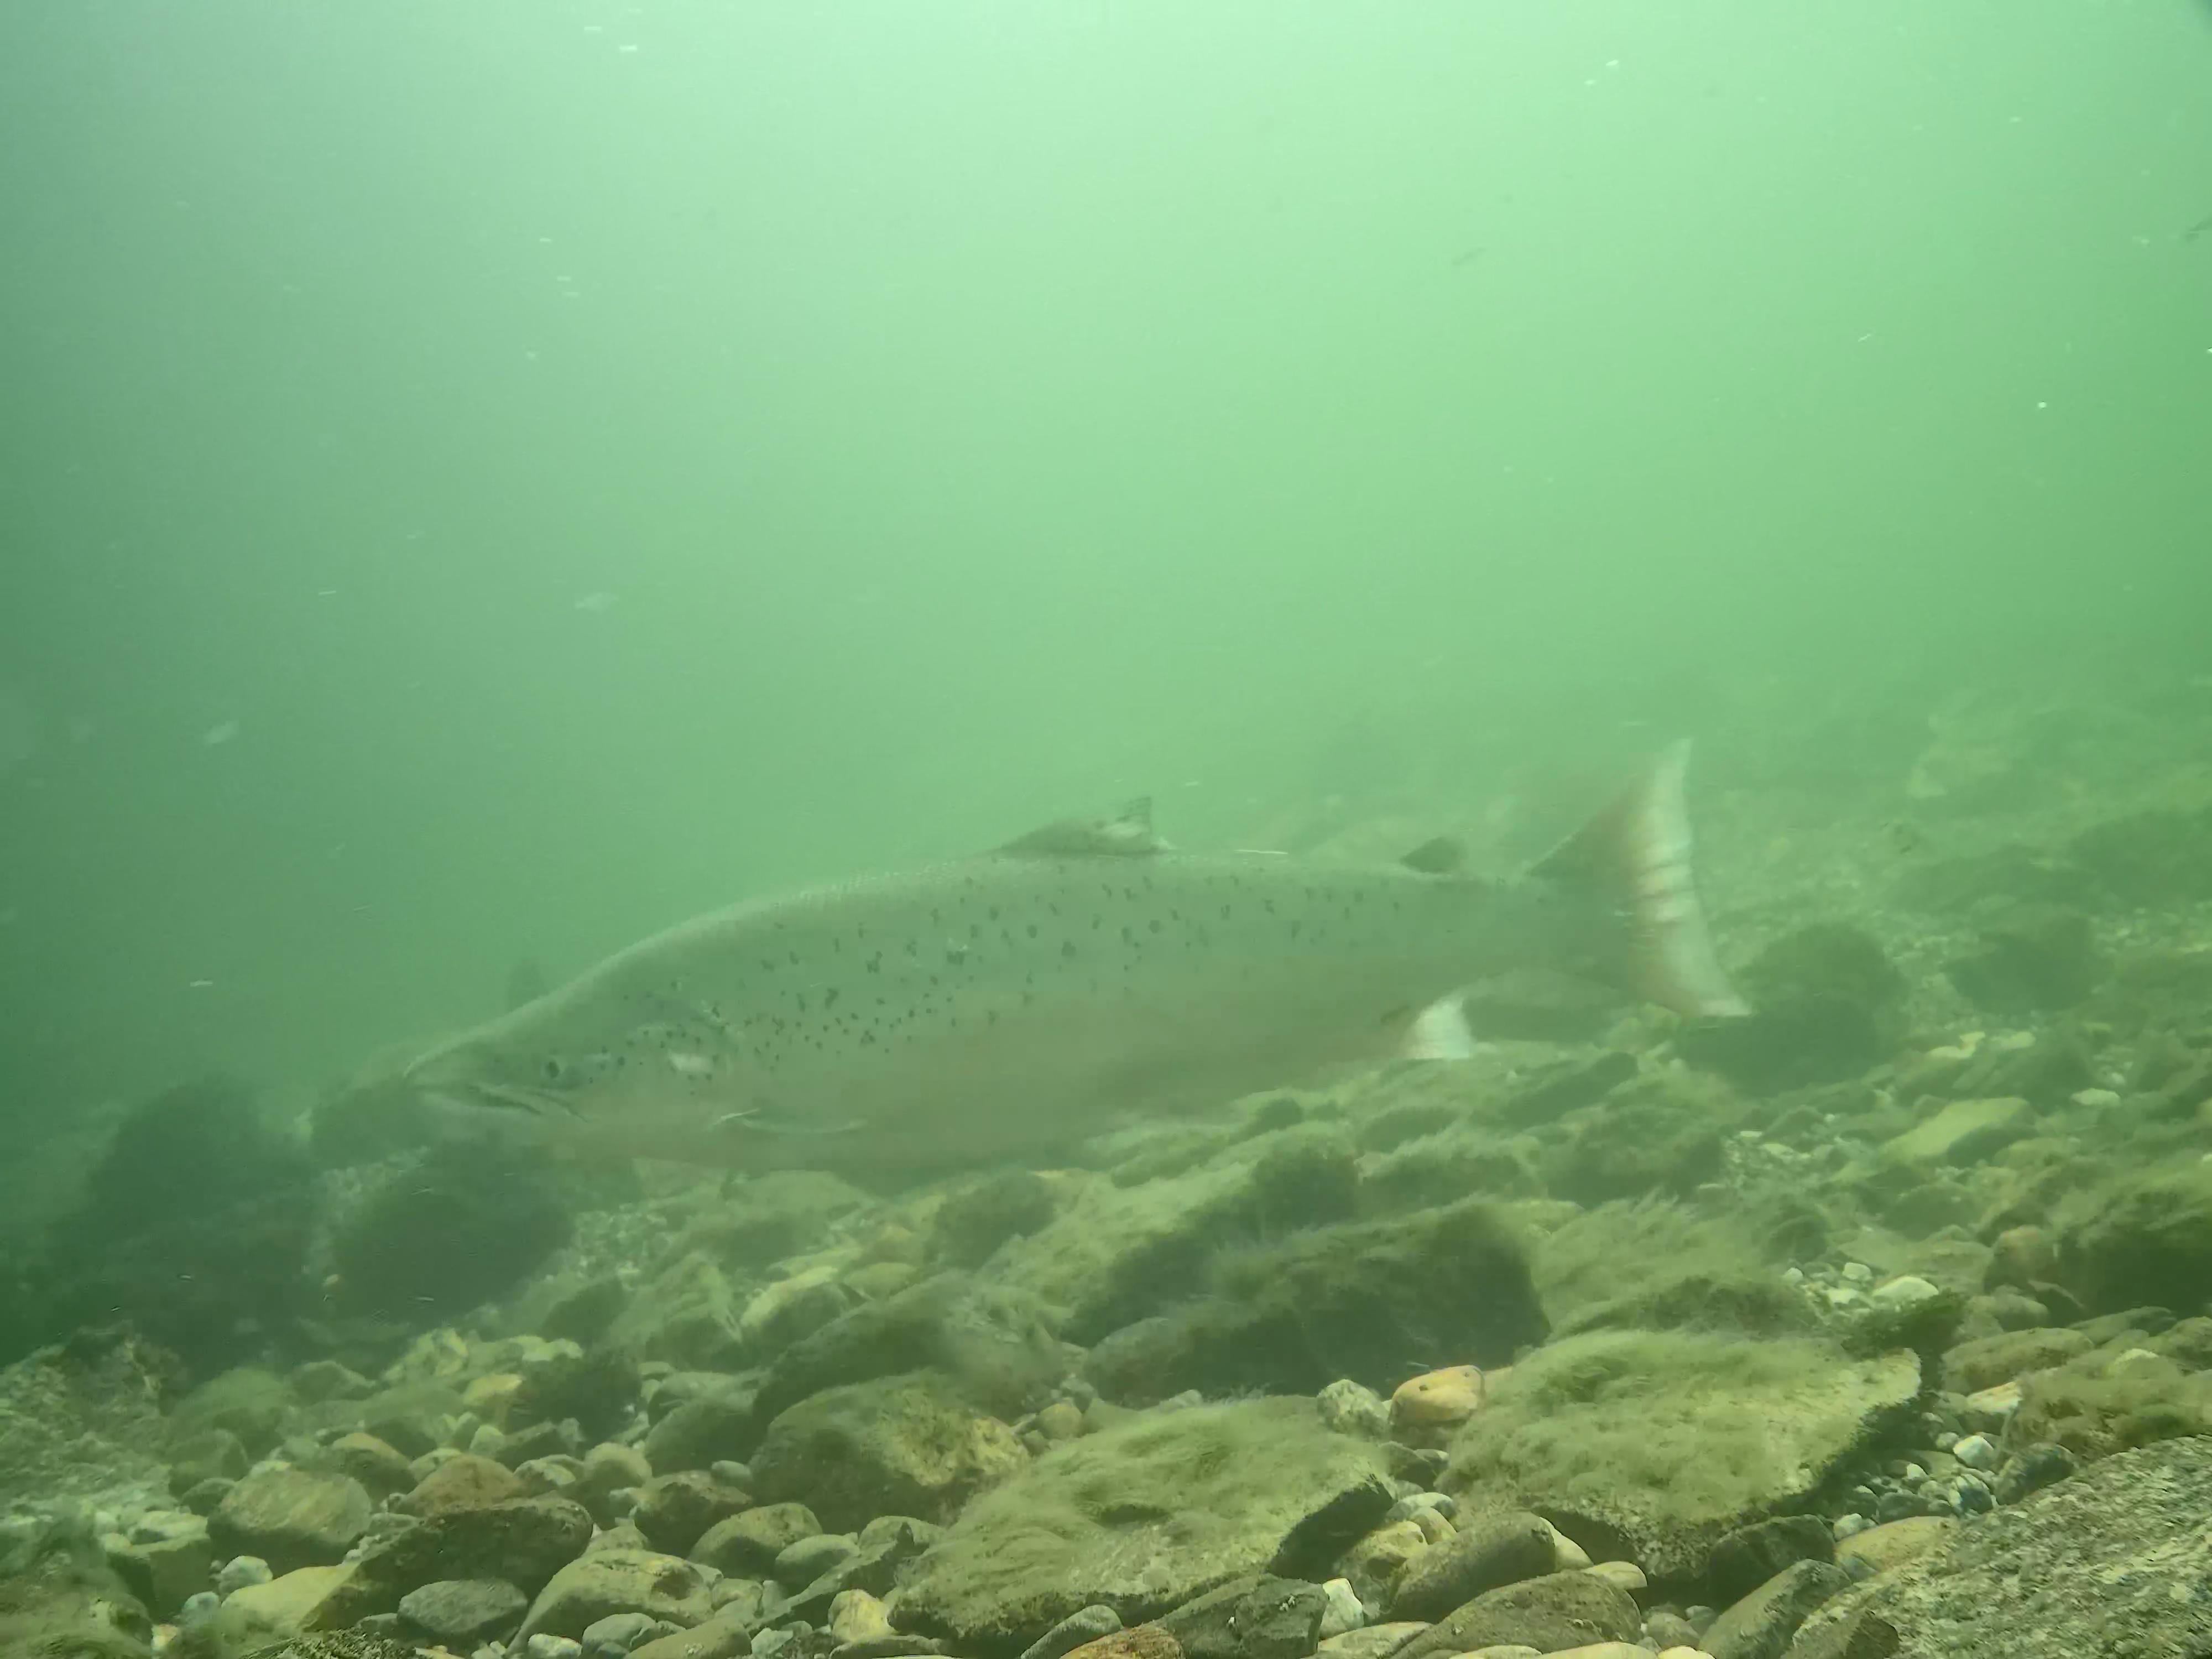salmon: (401, 732, 1764, 1178)
